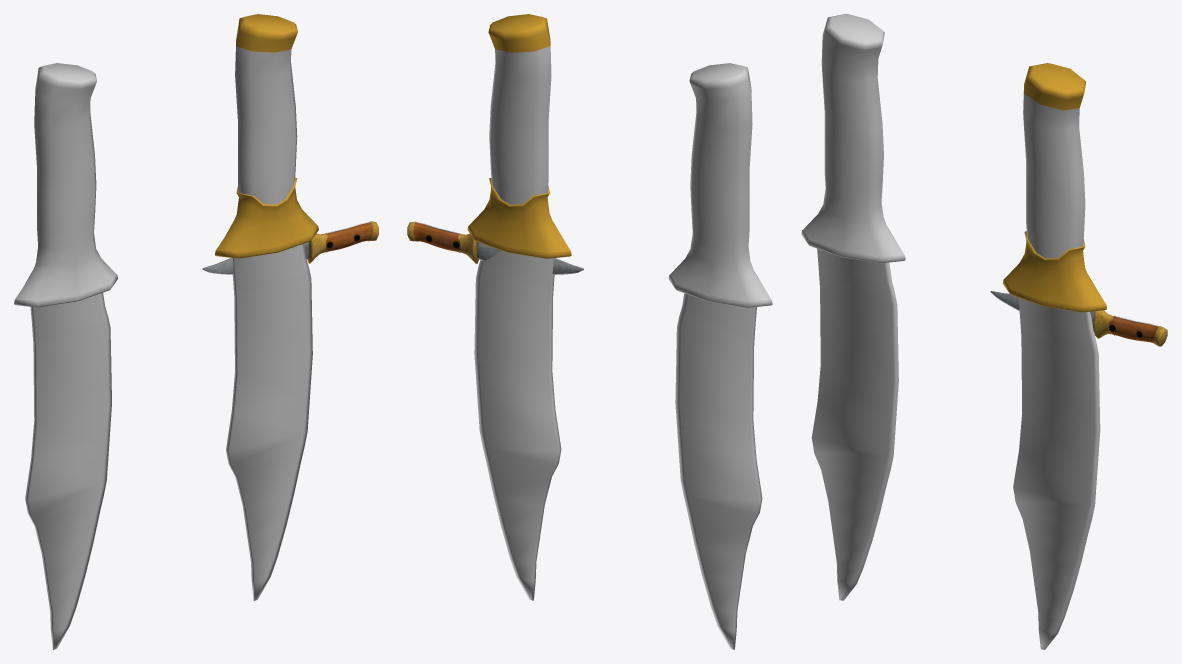
File: Knife.obj
3 views of the same model, side by side, from view 1: azimuth 30°, elevation 25°; view 2: azimuth 150°, elevation 25°; view 3: azimuth 330°, elevation 25° (orthographic).
Parts seen in each view (by area): view 1: Cylinder.001_Cylinder.002, Cylinder.000_Cylinder.004, Cylinder.003_Cylinder.000; view 2: Cylinder.001_Cylinder.002, Cylinder.000_Cylinder.004, Cylinder.003_Cylinder.000; view 3: Cylinder.001_Cylinder.002, Cylinder.000_Cylinder.004, Cylinder.003_Cylinder.000.
Boxes of the visible parts, x1,y1,x2,y2 form: Cylinder.001_Cylinder.002: (14,63,117,649); Cylinder.000_Cylinder.004: (215,14,318,600); Cylinder.003_Cylinder.000: (202,221,378,274); Cylinder.001_Cylinder.002: (668,63,772,649); Cylinder.000_Cylinder.004: (467,14,571,600); Cylinder.003_Cylinder.000: (407,221,583,274); Cylinder.001_Cylinder.002: (801,14,905,600); Cylinder.000_Cylinder.004: (1003,63,1106,649); Cylinder.003_Cylinder.000: (990,291,1167,346).
Size of the model in its own units: 4.56 by 6.95 by 0.6008.
